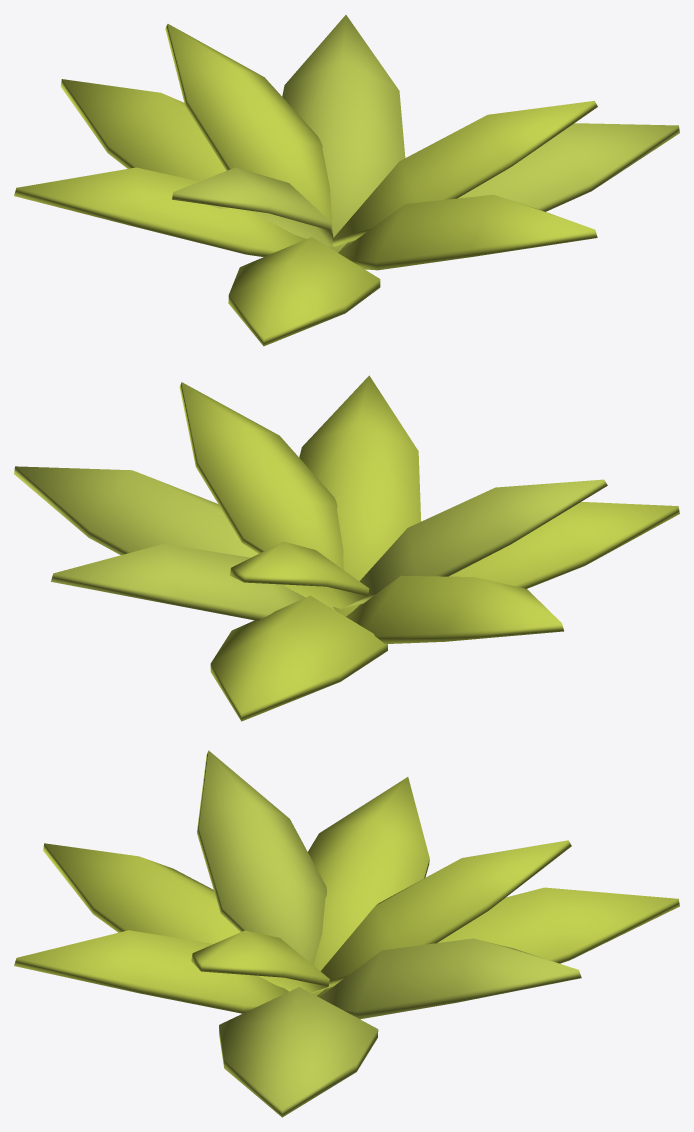
The model's file is Leaf_Plant_Yellow_1.fbx.
3 renders of one model, top to bottom at view 1: azimuth 30°, elevation 25°; view 2: azimuth 150°, elevation 25°; view 3: azimuth 270°, elevation 25°, orthographic.
Visible parts, largest first — view 1: Plane.247, Plane.251, Plane.252, Plane.246, Plane.245, Plane.248, Plane.249, Plane.250, Plane.253; view 2: Plane.252, Plane.246, Plane.249, Plane.250, Plane.253, Plane.245, Plane.247, Plane.248, Plane.251; view 3: Plane.253, Plane.250, Plane.247, Plane.245, Plane.251, Plane.246, Plane.248, Plane.249, Plane.252.
Boxes of the visible parts, x1,y1,x2,y2 form: Plane.247: [282, 15, 405, 252]; Plane.251: [165, 24, 332, 225]; Plane.252: [332, 101, 597, 246]; Plane.246: [338, 194, 597, 270]; Plane.245: [14, 167, 306, 256]; Plane.248: [228, 237, 380, 346]; Plane.249: [60, 79, 226, 181]; Plane.250: [338, 123, 679, 252]; Plane.253: [172, 167, 333, 247]; Plane.252: [179, 382, 343, 569]; Plane.246: [299, 375, 421, 616]; Plane.249: [210, 595, 387, 721]; Plane.250: [14, 466, 335, 610]; Plane.253: [345, 479, 607, 607]; Plane.245: [346, 575, 563, 643]; Plane.247: [51, 544, 305, 620]; Plane.248: [355, 502, 679, 609]; Plane.251: [230, 541, 369, 608]; Plane.253: [197, 750, 326, 965]; Plane.250: [219, 987, 378, 1117]; Plane.247: [319, 938, 581, 1019]; Plane.245: [308, 777, 429, 995]; Plane.251: [311, 840, 571, 993]; Plane.246: [14, 930, 288, 1013]; Plane.248: [43, 843, 290, 991]; Plane.249: [317, 887, 679, 996]; Plane.252: [191, 930, 329, 992].
Bounding box in the file's own units: 176 × 44.93 × 167.
